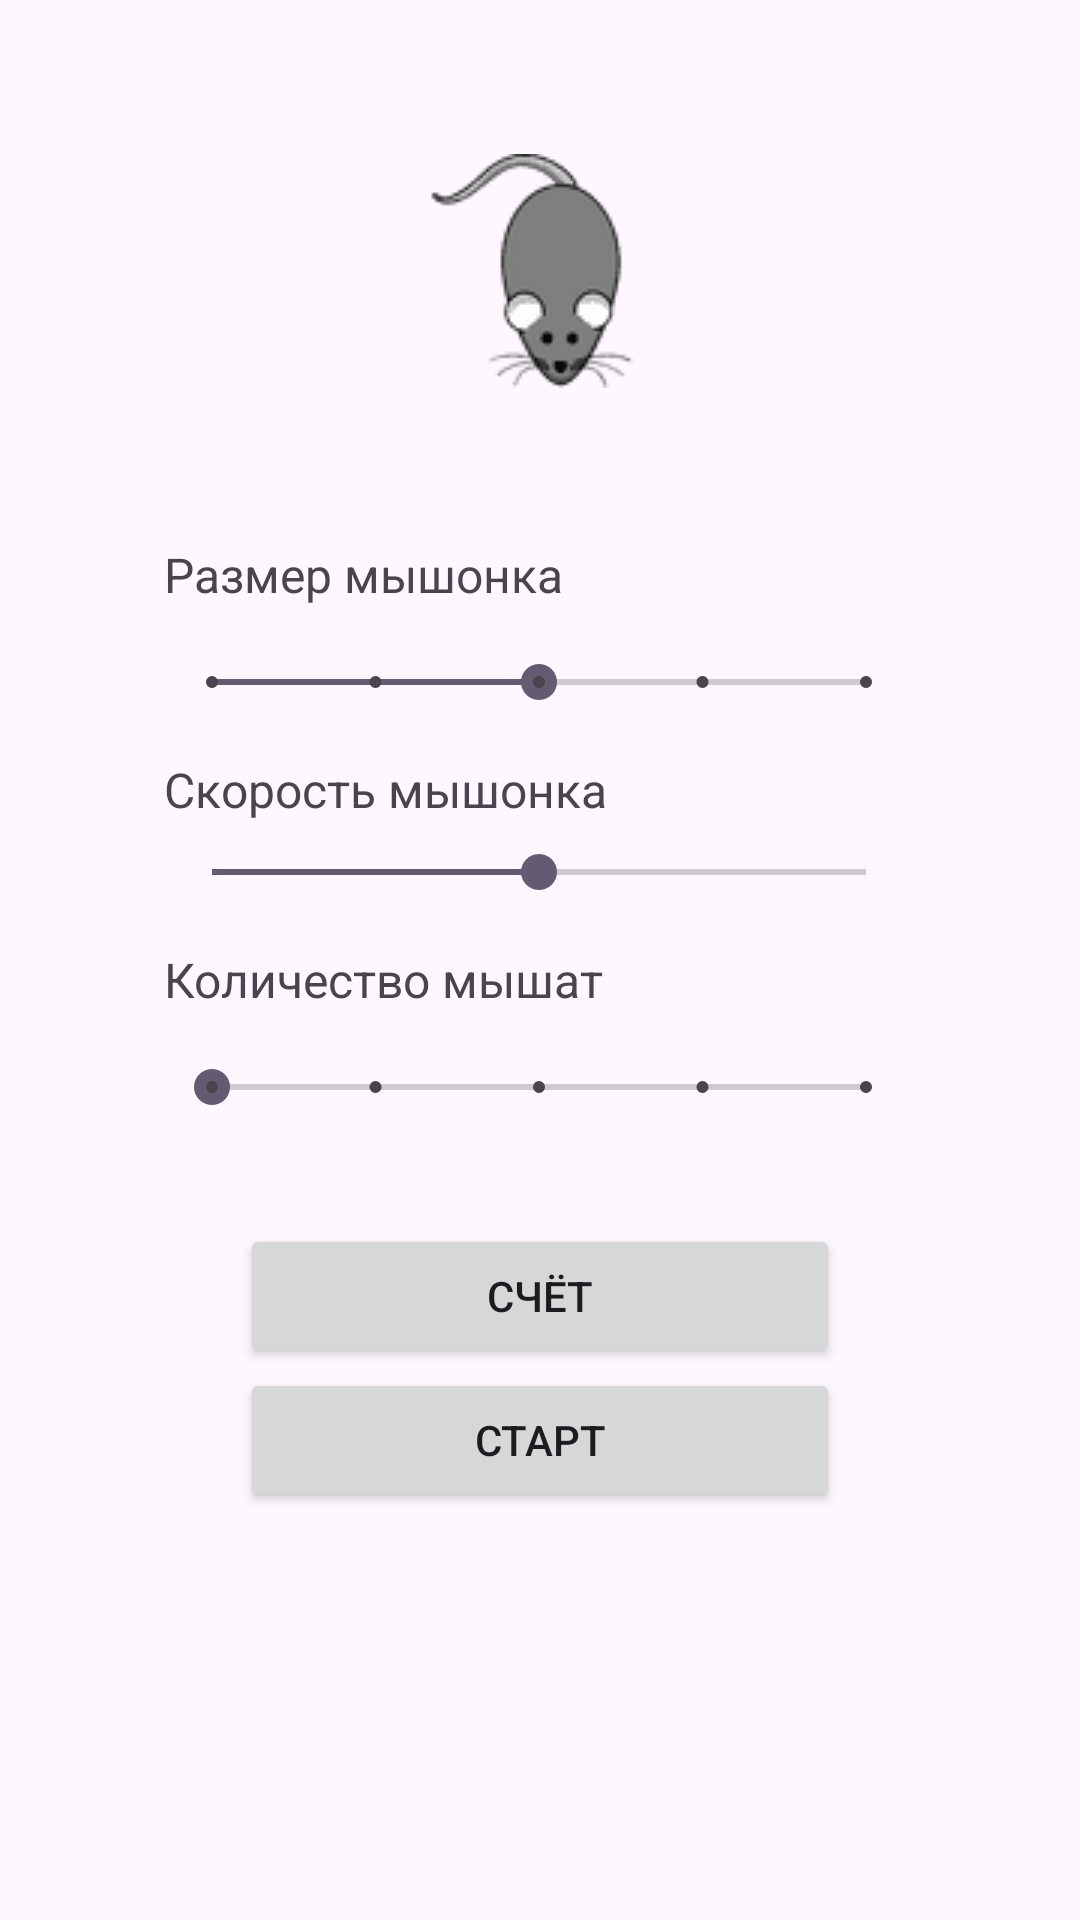

Point at icon controls on the screen. Image size 1080px×1920px, points as point (x, y).
mouse: point (531, 271)
